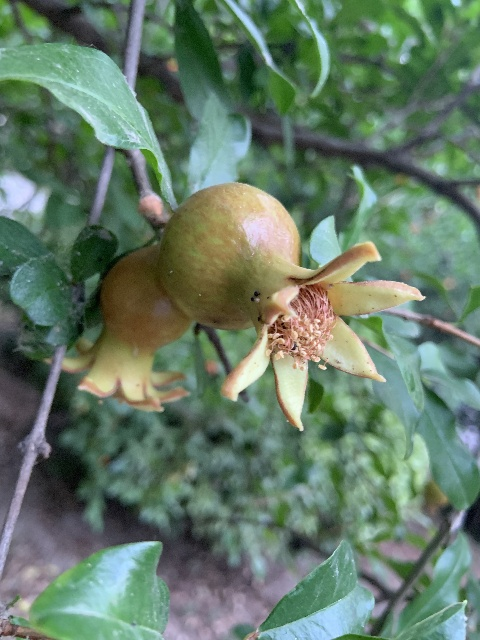early-fruit: (159, 182, 422, 432), (60, 245, 193, 412)
